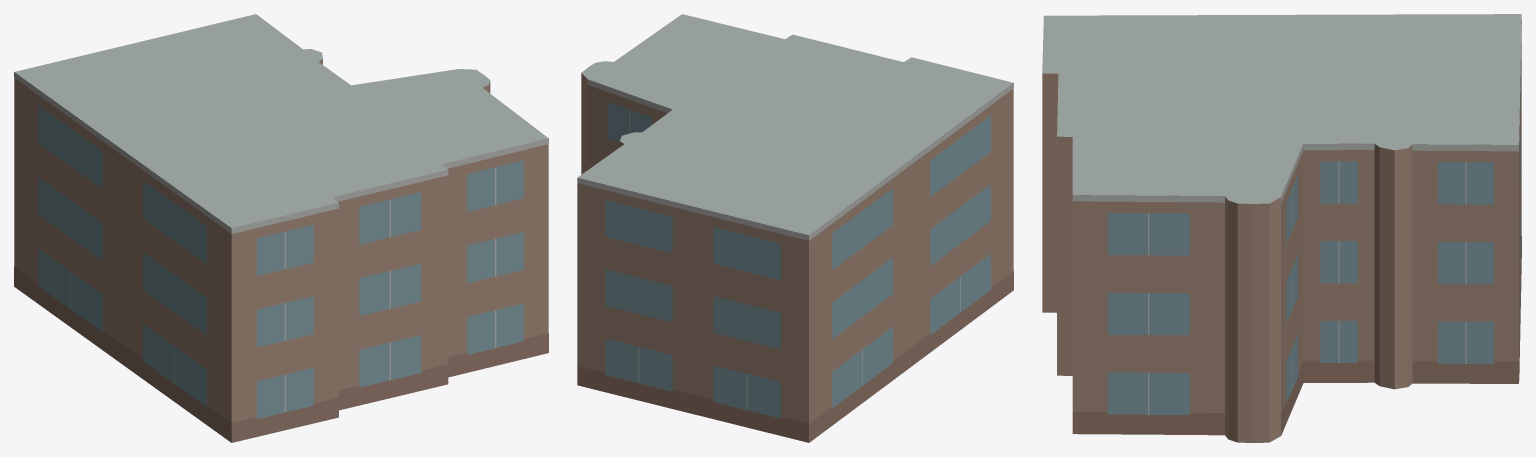
Rendered from survey-upis-32821028.glb.
The picture shows the model from 3 angles, left to right: view 1: azimuth 30°, elevation 25°; view 2: azimuth 150°, elevation 25°; view 3: azimuth 270°, elevation 25°; orthographic projection. The views are drawn at different scales.
Visible parts, largest first — view 1: survey-upis-32821028.tmp; view 2: survey-upis-32821028.tmp; view 3: survey-upis-32821028.tmp.
Part boxes in pixels (<box>): survey-upis-32821028.tmp: <box>14,14,548,442</box>; survey-upis-32821028.tmp: <box>577,14,1013,442</box>; survey-upis-32821028.tmp: <box>1042,14,1521,442</box>.
Size of the model in its own units: 15.59 by 9.15 by 16.65.
